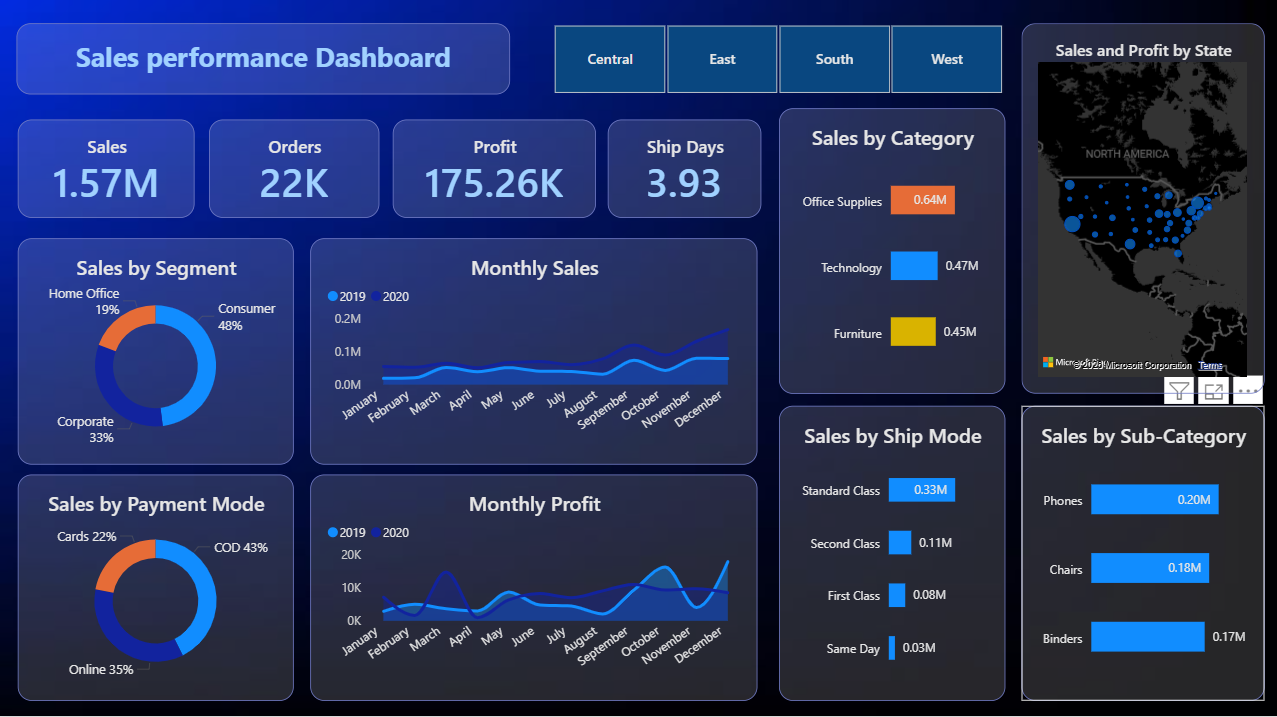

What the dashboard file says about the page in this screenshot:
{"tool":"powerbi","page":{"name":"Page 1","canvas":[1280,720],"ordinal":0},"visuals":[{"type":"clusteredBarChart","title":"Sales by Category","fields":{"Category":["SuperStore_Sales_Dataset.Category"],"Y":["Sum(SuperStore_Sales_Dataset.Sales)"]},"box":[779.4,111.1,226.4,285.4],"z":0},{"type":"clusteredBarChart","title":"Sales by Sub-Category","fields":{"Category":["SuperStore_Sales_Dataset.Sub-Category"],"Y":["Sum(SuperStore_Sales_Dataset.Sales)"]},"box":[1022.3,408.9,242.9,295],"z":1000},{"type":"clusteredBarChart","title":"Sales by Ship Mode","fields":{"Category":["SuperStore_Sales_Dataset.Ship Mode"],"Y":["Sum(SuperStore_Sales_Dataset.Sales)"]},"box":[779.4,408.9,226.4,295],"z":2000},{"type":"areaChart","title":"Monthly Sales","fields":{"Category":["SuperStore_Sales_Dataset.Order Date.Variation.Date Hierarchy.Month","SuperStore_Sales_Dataset.Order Date.Variation.Date Hierarchy.Day"],"Y":["Sum(SuperStore_Sales_Dataset.Sales)"],"Series":["SuperStore_Sales_Dataset.Order Date.Variation.Date Hierarchy.Year"]},"box":[311.5,241.5,447.3,226.4],"z":3000},{"type":"areaChart","title":"Monthly Profit","fields":{"Category":["SuperStore_Sales_Dataset.Order Date.Variation.Date Hierarchy.Month","SuperStore_Sales_Dataset.Order Date.Variation.Date Hierarchy.Day"],"Series":["SuperStore_Sales_Dataset.Order Date.Variation.Date Hierarchy.Year"],"Y":["Sum(SuperStore_Sales_Dataset.Profit)"]},"box":[311.5,477.5,447.3,226.4],"z":4000},{"type":"map","title":"Sales and Profit by State","fields":{"Category":["SuperStore_Sales_Dataset.State"],"Size":["Sum(SuperStore_Sales_Dataset.Sales)"]},"box":[1022.3,26.1,242.9,370.5],"z":5000},{"type":"donutChart","title":"Sales by Segment","fields":{"Category":["SuperStore_Sales_Dataset.Segment"],"Y":["Sum(SuperStore_Sales_Dataset.Sales)"]},"box":[19.2,241.5,275.8,226.4],"z":6000},{"type":"donutChart","title":"Sales by Payment Mode","fields":{"Y":["Sum(SuperStore_Sales_Dataset.Sales)"],"Category":["SuperStore_Sales_Dataset.Payment Mode"]},"box":[19.2,477.5,275.8,226.4],"z":7000},{"type":"slicer","fields":{"Values":["SuperStore_Sales_Dataset.Region"]},"box":[535.2,26.1,487.1,71.4],"z":8000},{"type":"textbox","box":[17.8,26.1,494,71.4],"z":9000},{"type":"cardVisual","title":"Sales","fields":{"Data":["Sum(SuperStore_Sales_Dataset.Sales)"]},"box":[19.2,122.1,177,98.8],"z":10000},{"type":"cardVisual","title":"Ship Days","fields":{"Data":["Avg(SuperStore_Sales_Dataset.AvgDelivery)"]},"box":[609.3,122.1,153.7,98.8],"z":11000},{"type":"cardVisual","title":"Profit","fields":{"Data":["Sum(SuperStore_Sales_Dataset.Profit)"]},"box":[393.8,122.1,203.1,98.8],"z":12000},{"type":"cardVisual","title":"Orders","fields":{"Data":["Sum(SuperStore_Sales_Dataset.Quantity)"]},"box":[209.9,122.1,170.2,98.8],"z":13000}]}

Visuals, with their boxes in screenshot pixels (x1, y1, x2, y2), scaled from the page's 1280x720 canvas onto the 1277x717 screenshot:
"Sales by Category" clusteredBarChart: (left=778, top=111, right=1003, bottom=395)
"Sales by Sub-Category" clusteredBarChart: (left=1020, top=407, right=1262, bottom=701)
"Sales by Ship Mode" clusteredBarChart: (left=778, top=407, right=1003, bottom=701)
"Monthly Sales" areaChart: (left=311, top=240, right=757, bottom=466)
"Monthly Profit" areaChart: (left=311, top=476, right=757, bottom=701)
"Sales and Profit by State" map: (left=1020, top=26, right=1262, bottom=395)
"Sales by Segment" donutChart: (left=19, top=240, right=294, bottom=466)
"Sales by Payment Mode" donutChart: (left=19, top=476, right=294, bottom=701)
slicer - SuperStore_Sales_Dataset.Region: (left=534, top=26, right=1020, bottom=97)
textbox: (left=18, top=26, right=511, bottom=97)
"Sales" cardVisual: (left=19, top=122, right=196, bottom=220)
"Ship Days" cardVisual: (left=608, top=122, right=761, bottom=220)
"Profit" cardVisual: (left=393, top=122, right=596, bottom=220)
"Orders" cardVisual: (left=209, top=122, right=379, bottom=220)
